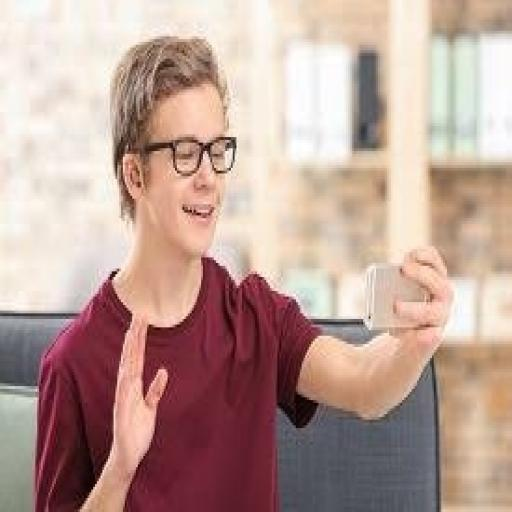texting: (32, 31, 454, 509)
